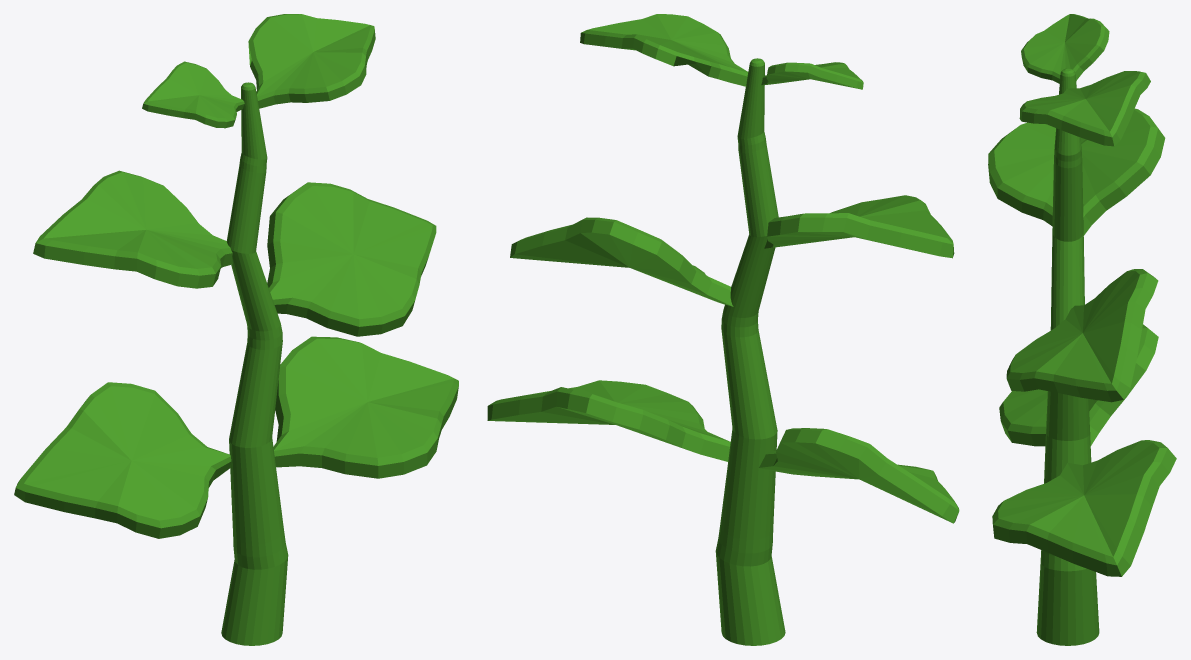
The model's file is PlantaGrande (1).fbx.
3 renders of one model, left to right at view 1: azimuth 30°, elevation 25°; view 2: azimuth 150°, elevation 25°; view 3: azimuth 270°, elevation 25°, orthographic. The views are drawn at different scales.
Visible parts, largest first — view 1: Cylinder.003; view 2: Cylinder.003; view 3: Cylinder.003.
Boxes of the visible parts, left/top/right/bottom form: Cylinder.003: left=14, top=14, right=458, bottom=645; Cylinder.003: left=487, top=14, right=959, bottom=645; Cylinder.003: left=988, top=14, right=1176, bottom=645.
Bounding box in the file's own units: 338 × 416 × 121.
